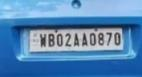0: (88, 32, 96, 48), (57, 32, 63, 49), (114, 31, 120, 46)
2: (64, 33, 72, 47)
7: (105, 30, 112, 48)
8: (98, 30, 104, 46)
A: (72, 31, 81, 48), (81, 32, 89, 48)
B: (48, 31, 56, 48)
W: (39, 32, 47, 48)
